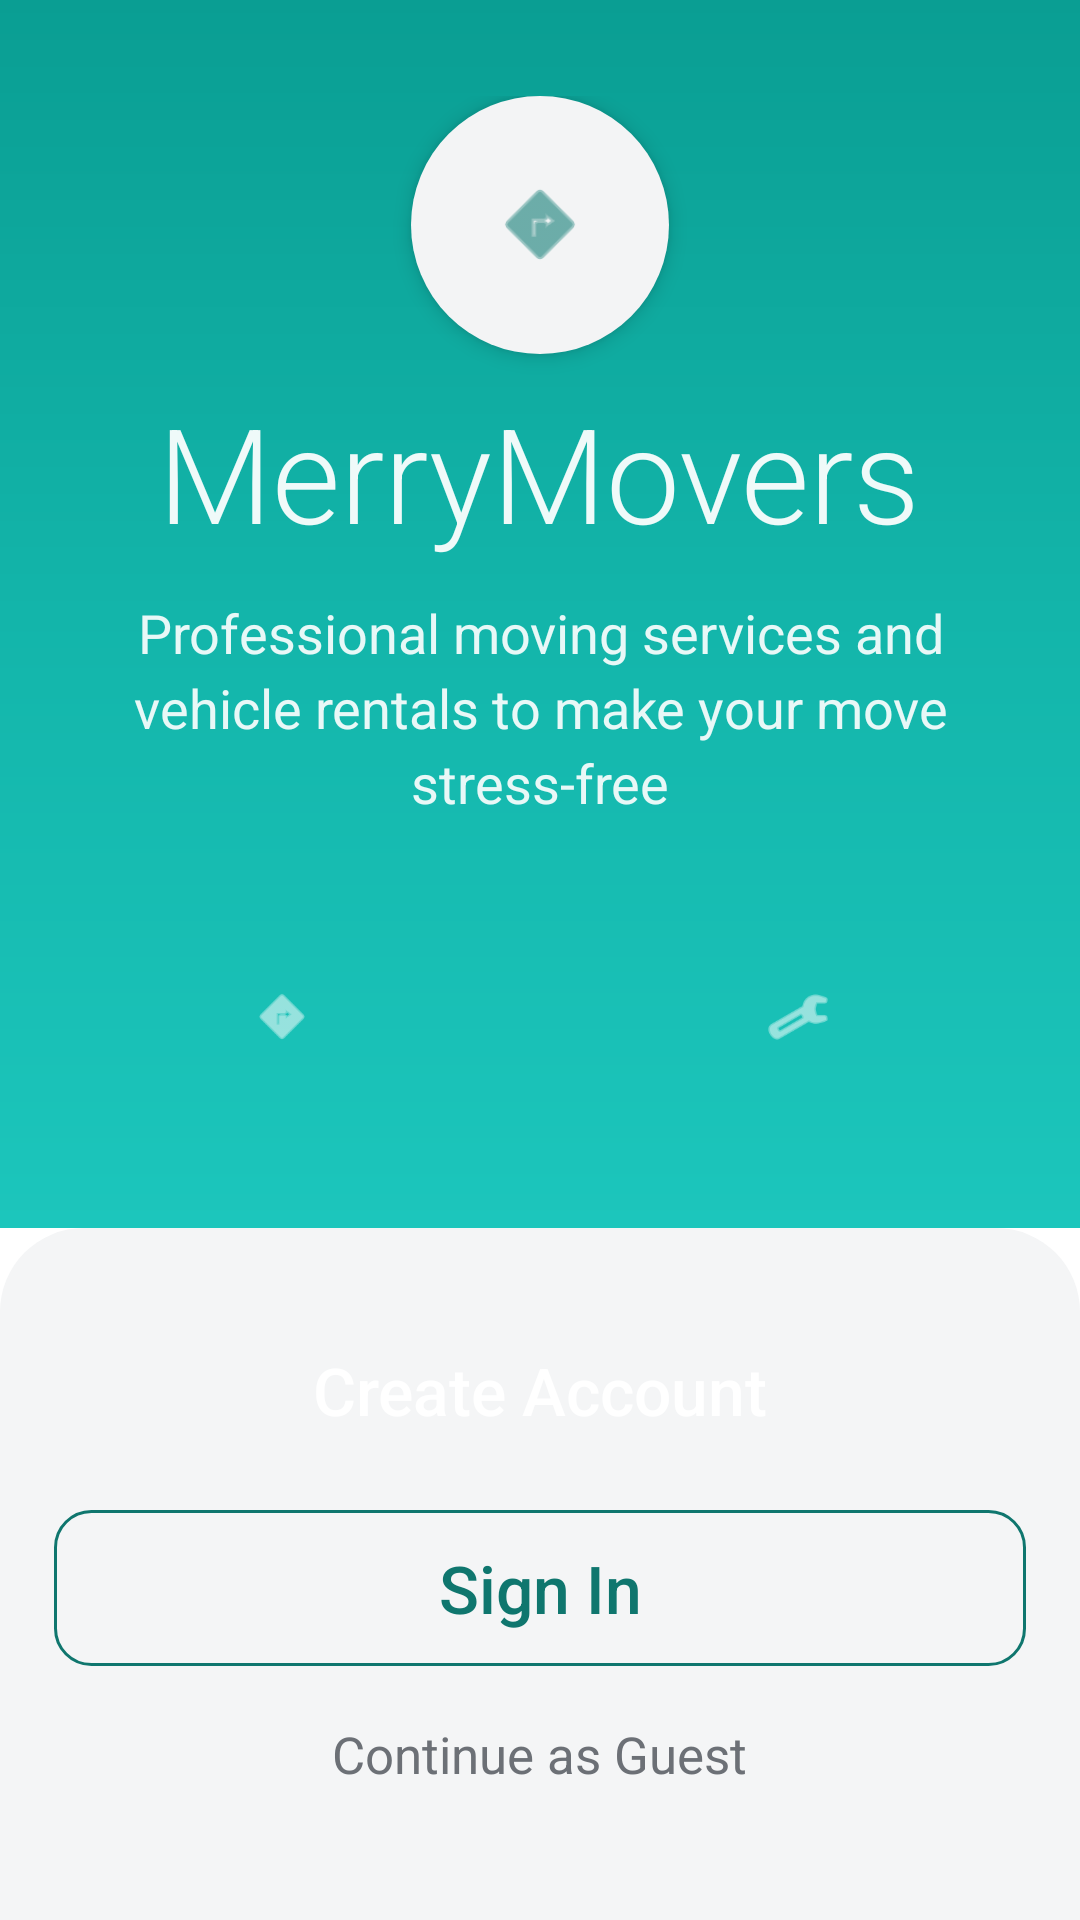

Icons on this 1080*1920 Android screen, each with the point to tap as (x=x, y=y):
directions: (x=540, y=224), (x=282, y=1016)
manage: (x=798, y=1017)
